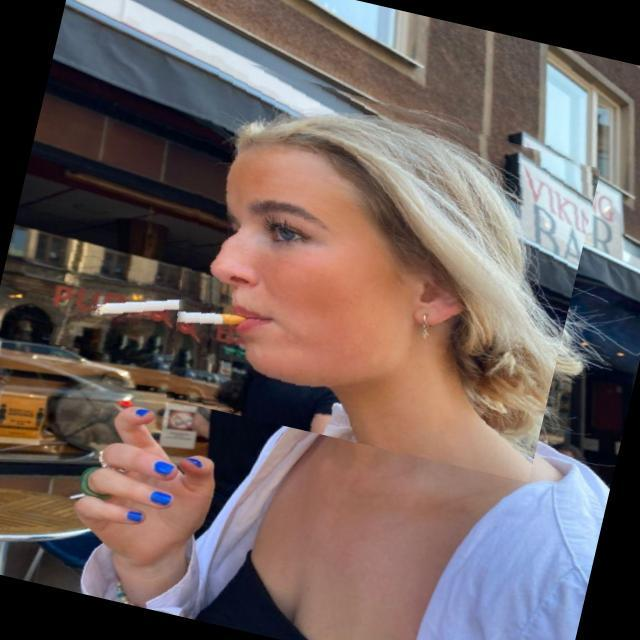cigarette: (49, 252, 258, 387)
